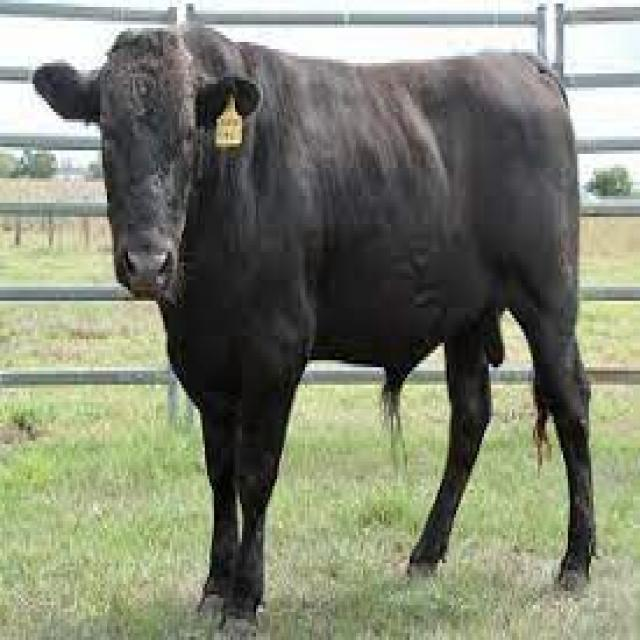cow: (35, 26, 594, 616)
